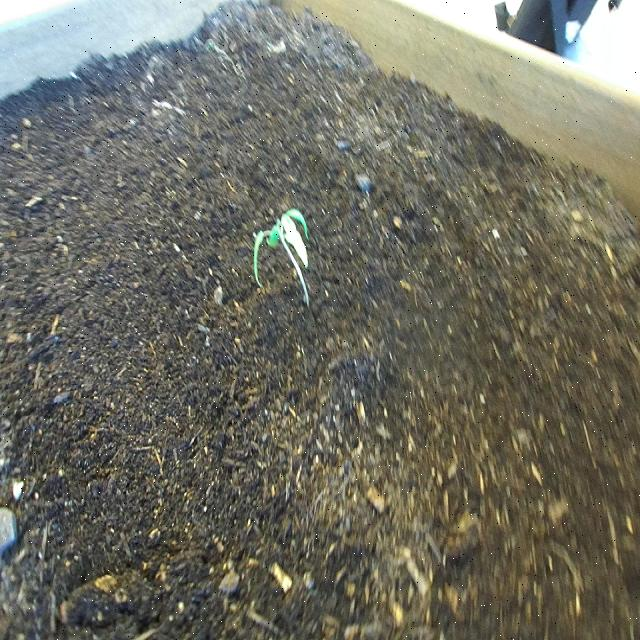Unhealthy: (250, 204, 317, 316)
